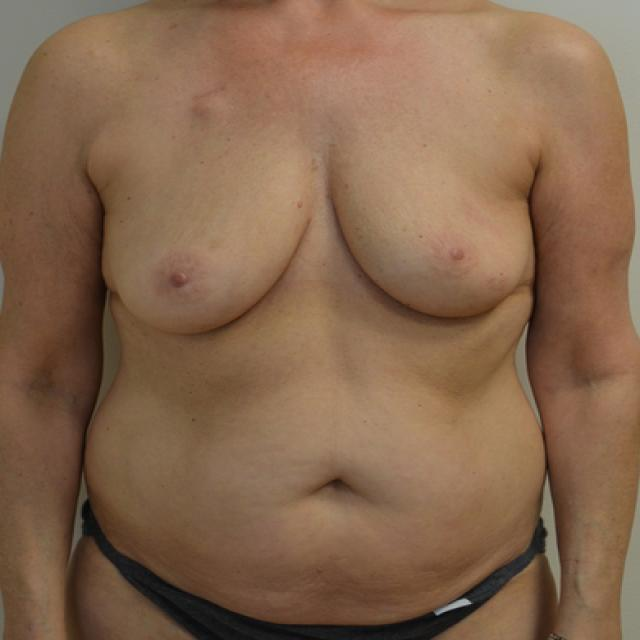Seno ileso: (89, 134, 318, 348), (324, 133, 540, 333)
